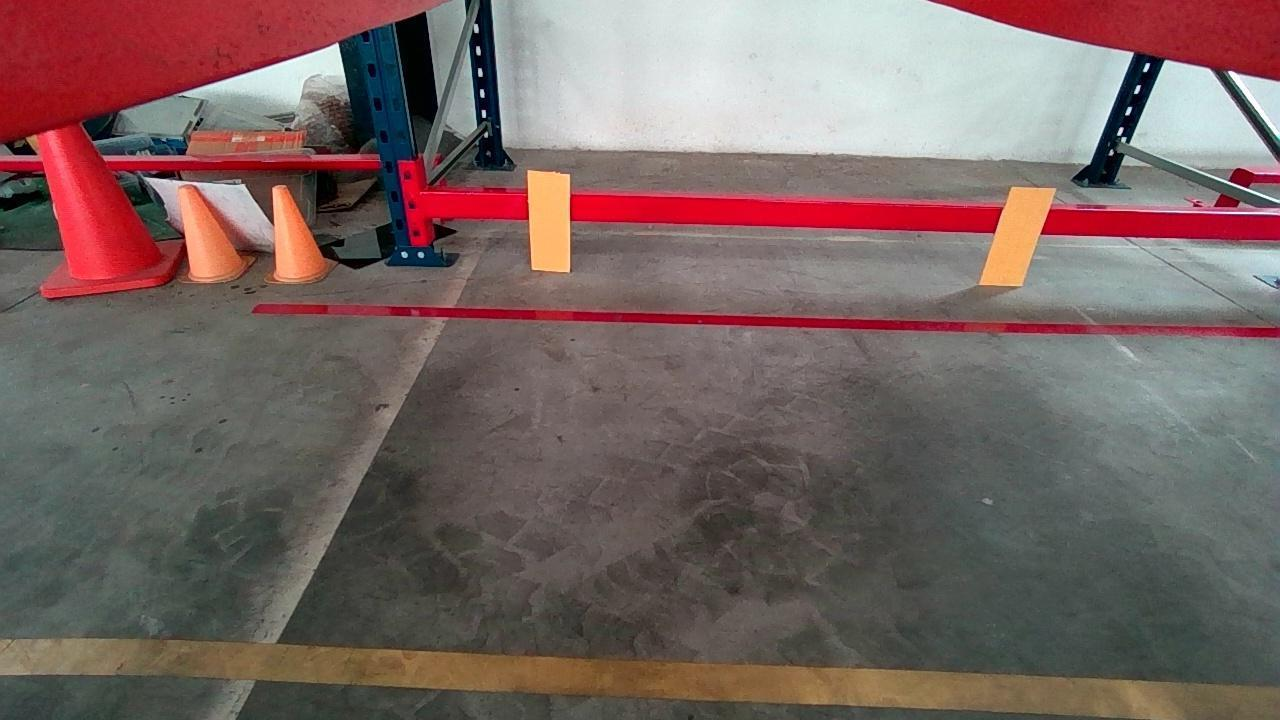h_rack: (424, 190, 1280, 241)
orange_strip: (981, 185, 1061, 285), (532, 172, 570, 270)
red_line: (254, 299, 1280, 336)
yellow_line: (0, 641, 1278, 718)
